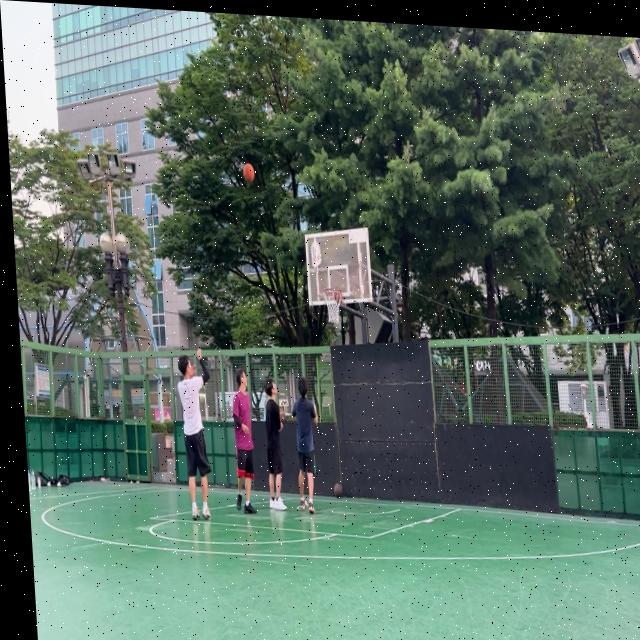basketball: (243, 163, 255, 184), (333, 482, 344, 499)
hoop: (322, 286, 345, 325)
